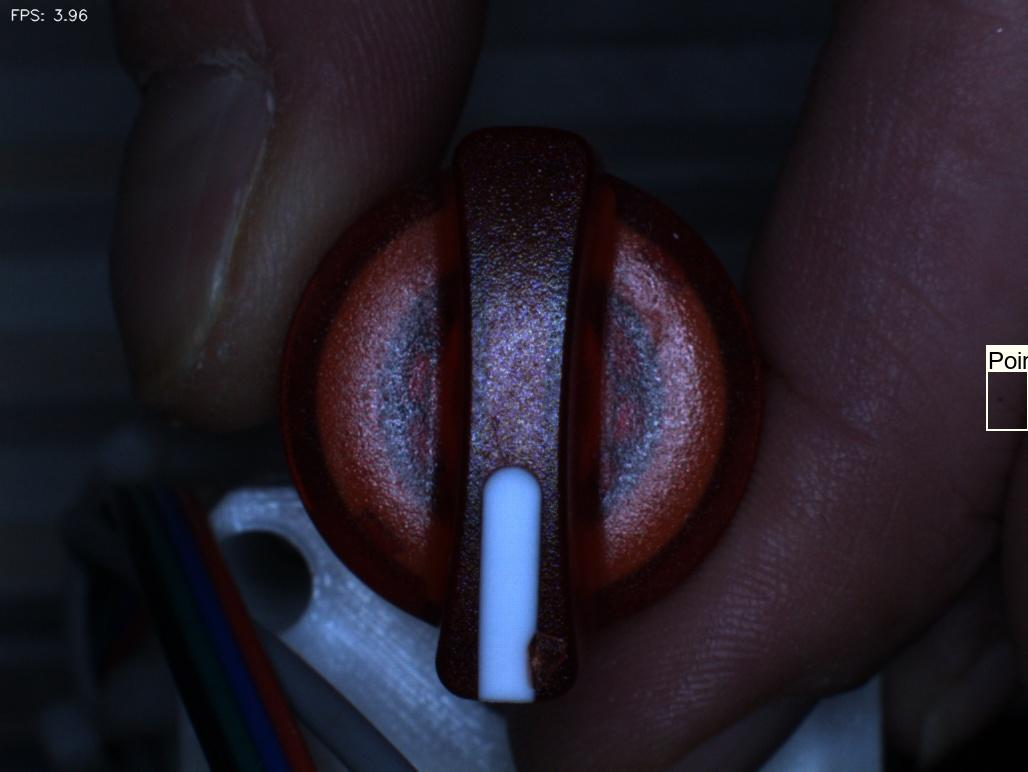Choc: (507, 613, 595, 711)
